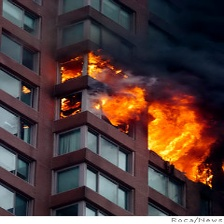fire: (60, 61, 222, 191), (22, 85, 30, 95)
